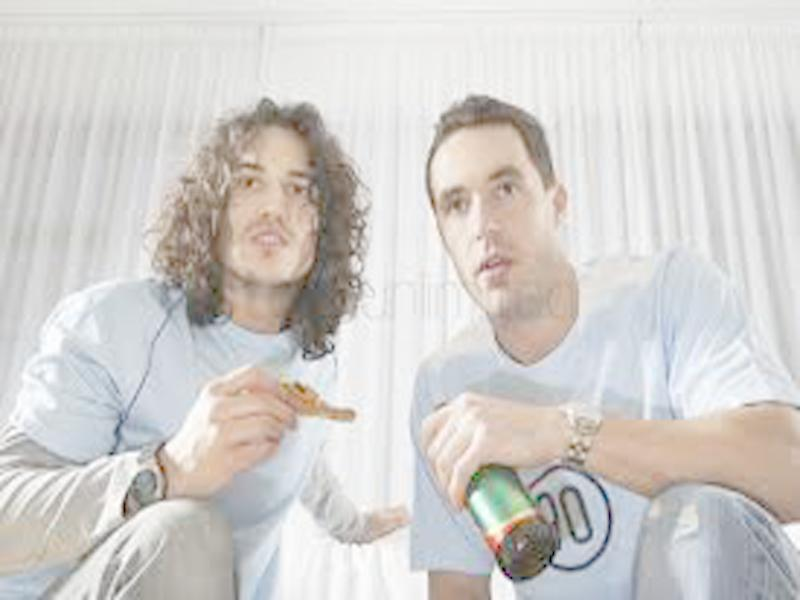Beer: (433, 400, 561, 584)
